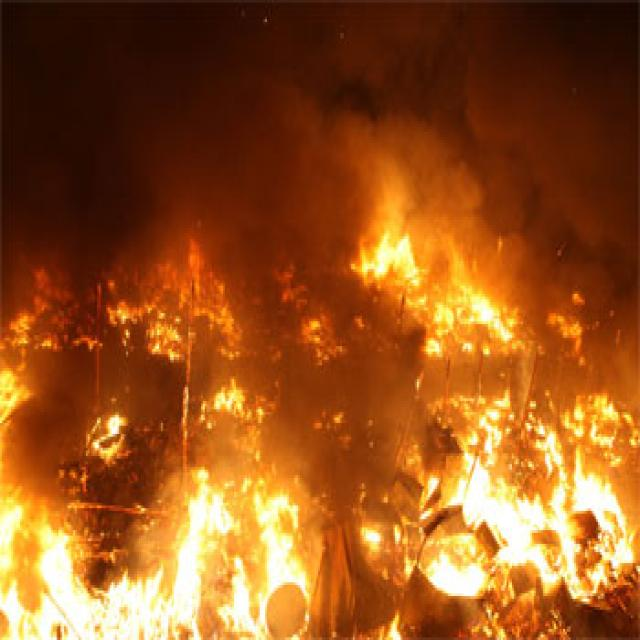Fire: (0, 179, 633, 637)
Smoke: (0, 0, 633, 200)
